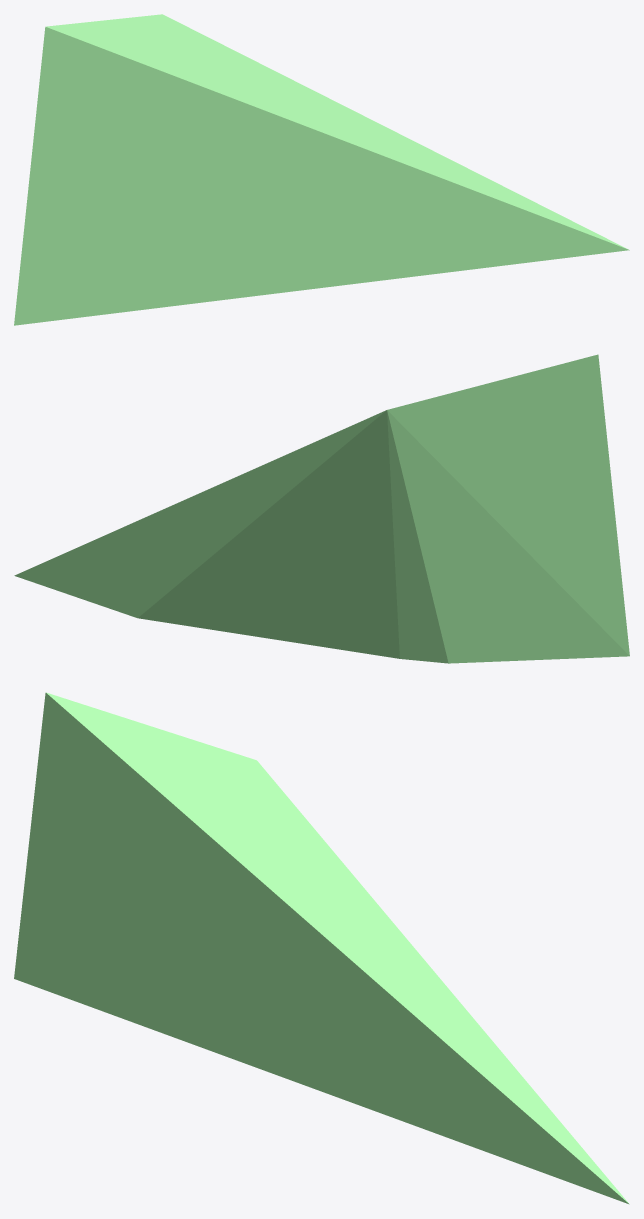
Rendered from UMIRobot_UMIRobot_link_3_convex_coll_21.dae.
3 views of the same model, one above another, from view 1: azimuth 30°, elevation 25°; view 2: azimuth 150°, elevation 25°; view 3: azimuth 330°, elevation 25° (orthographic).
Visible parts, largest first — view 1: node; view 2: node; view 3: node.
Boxes of the visible parts, x1,y1,x2,y2 form: node: (14,14,629,325); node: (14,354,629,663); node: (14,692,629,1204).
Bounding box in the file's own units: 0.0219 × 0.0124 × 0.00302.
